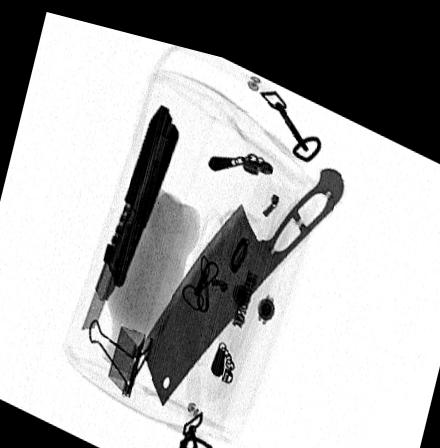Knife: (139, 150, 345, 397), (81, 93, 179, 326)
